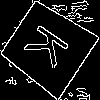K: (23, 22, 79, 75)
